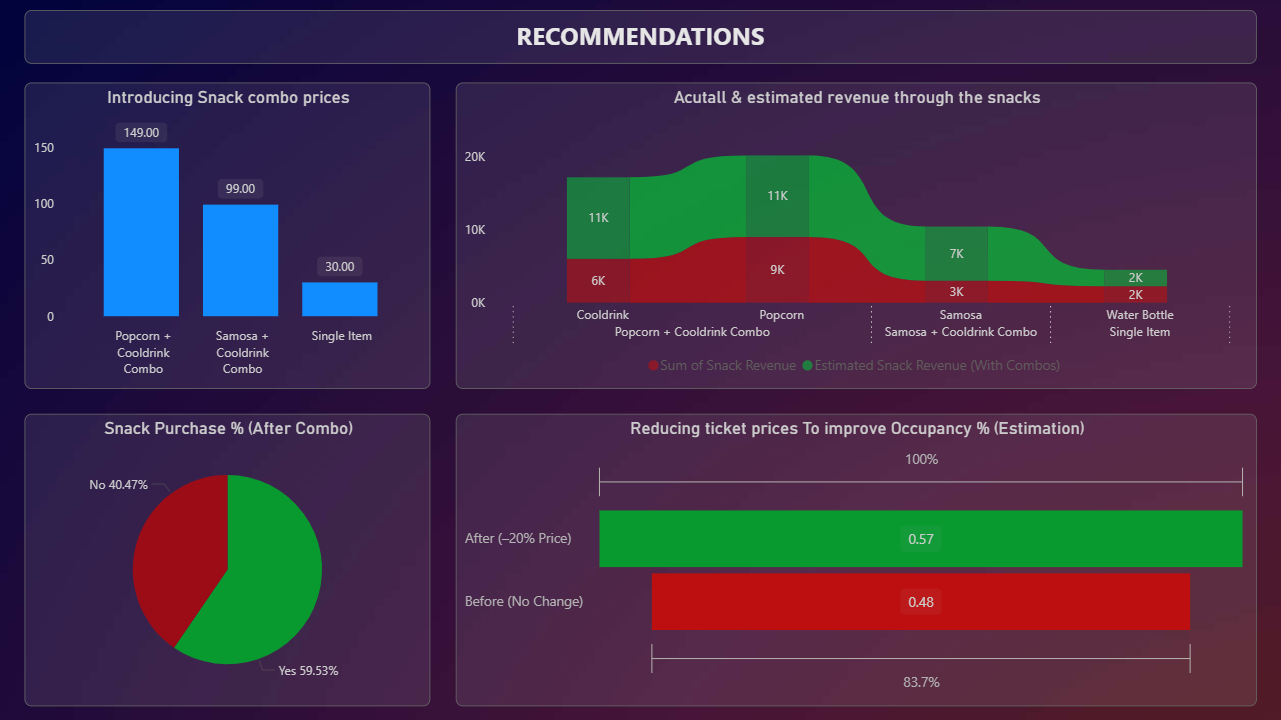

This screenshot's page, from the dashboard's own definition file:
{"tool":"powerbi","page":{"name":"Page 2","canvas":[1280,720],"ordinal":1},"visuals":[{"type":"columnChart","title":"Snackspend by show time ","fields":{"Category":["Cinema operations decision audit.Show_Time"],"Y":["Cinema operations decision audit.Total Snack Revenue"]},"box":[21.8,11.5,304.7,204.8],"z":0},{"type":"clusteredBarChart","title":" Snack Spend INR By Customer Type","fields":{"Category":["Cinema operations decision audit.Customer_Type"],"Y":["Cinema operations decision audit.Total Snack Revenue"]},"box":[334.1,226.6,297,204.8],"z":1000},{"type":"lineChart","title":"Occupancy Level & Queue Time","fields":{"Category":["Cinema operations decision audit.Occupancy_Level"],"Y":["Avg(Cinema operations decision audit.Queue_Time_Minutes)"]},"box":[642.7,11.5,313.7,207.4],"z":2000},{"type":"lineChart","title":"Queue waiting time","fields":{"Category":["Cinema operations decision audit.Show_Time"],"Y":["Avg(Cinema operations decision audit.Queue_Time_Minutes)"]},"box":[334.1,11.5,297,207.4],"z":3000},{"type":"columnChart","title":" Snack Prices","fields":{"Category":["Cinema operations decision audit.Snack Name"],"Y":["Avg(Cinema operations decision audit.Snack Price)"]},"box":[966.6,9,299.6,207.4],"z":4000},{"type":"pieChart","title":"Snack purchase( % ) Before Combo","fields":{"Category":["Cinema operations decision audit.Snack_Purchased"],"Y":["CountNonNull(Cinema operations decision audit.Snack_Purchased)"]},"box":[21.8,226.6,304.7,204.8],"z":5000},{"type":"columnChart","title":"Snack combo prices","fields":{"Category":["Cinema operations decision audit.Combo Type"],"Y":["Avg(Cinema operations decision audit.Combo Price INR)"]},"box":[642.7,227.9,313.7,203.6],"z":6000},{"type":"pieChart","title":"Snack Purchase % (After Combo)","fields":{"Category":["Cinema operations decision audit.Snack_Purchased"],"Y":["Cinema operations decision audit.Snack Purchase % (After Combo)"]},"box":[966.6,227.9,299.6,203.6],"z":7000},{"type":"columnChart","title":"Estimated Occupancy % After reducing ticket price","fields":{"Category":["Cinema operations decision audit.Price Optimization Scenario"],"Y":["Cinema operations decision audit.Estimated Occupancy %"]},"box":[966.6,440.4,299.6,266.3],"z":8000},{"type":"ribbonChart","title":"Acutall & estimated revenue through the snacks","fields":{"Category":["Cinema operations decision audit.Combo Type","Cinema operations decision audit.Snack Name"],"Y":["Sum(Cinema operations decision audit.Snack Revenue)","Cinema operations decision audit.Estimated Snack Revenue (With Combos)"]},"box":[22.1,440.5,933.7,266.3],"z":9000}]}

Visuals, with their boxes in screenshot pixels (x1, y1, x2, y2), scaled from the page's 1280x720 canvas onto the 1281x720 screenshot:
"Snackspend by show time " columnChart: 22/12/327/216
" Snack Spend INR By Customer Type" clusteredBarChart: 334/227/632/431
"Occupancy Level & Queue Time" lineChart: 643/12/957/219
"Queue waiting time" lineChart: 334/12/632/219
" Snack Prices" columnChart: 967/9/1267/216
"Snack purchase( % ) Before Combo" pieChart: 22/227/327/431
"Snack combo prices" columnChart: 643/228/957/432
"Snack Purchase % (After Combo)" pieChart: 967/228/1267/432
"Estimated Occupancy % After reducing ticket price" columnChart: 967/440/1267/707
"Acutall & estimated revenue through the snacks" ribbonChart: 22/440/957/707
